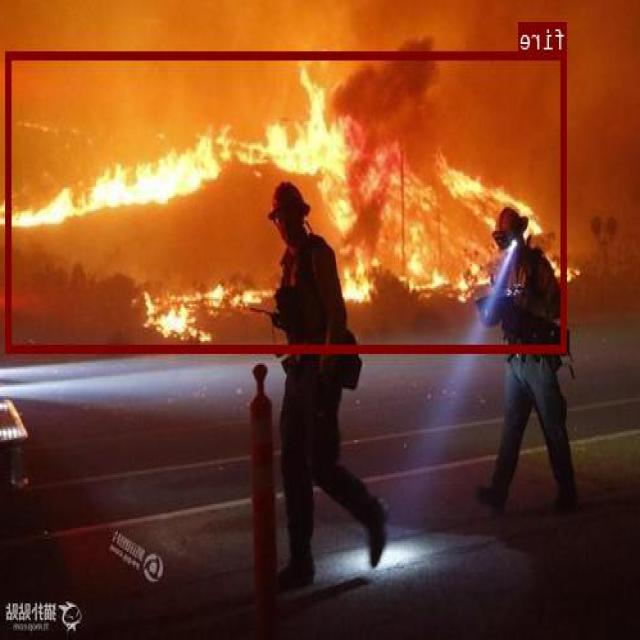fire: (6, 50, 568, 351)
